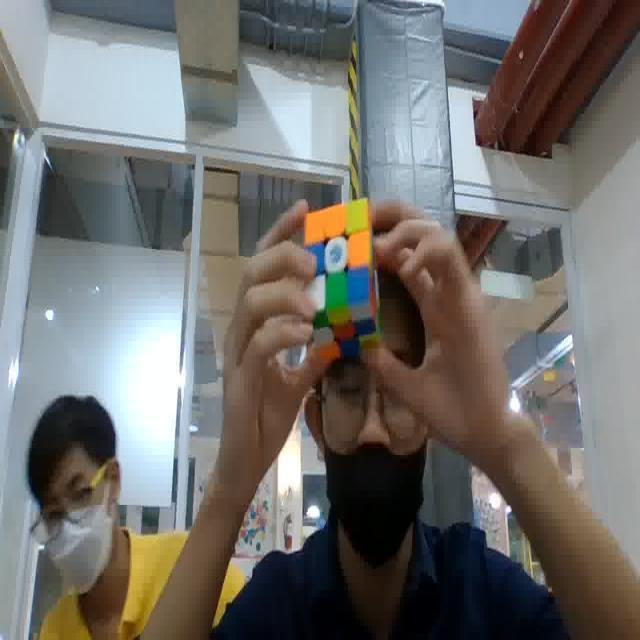Rub: (300, 198, 380, 366)
